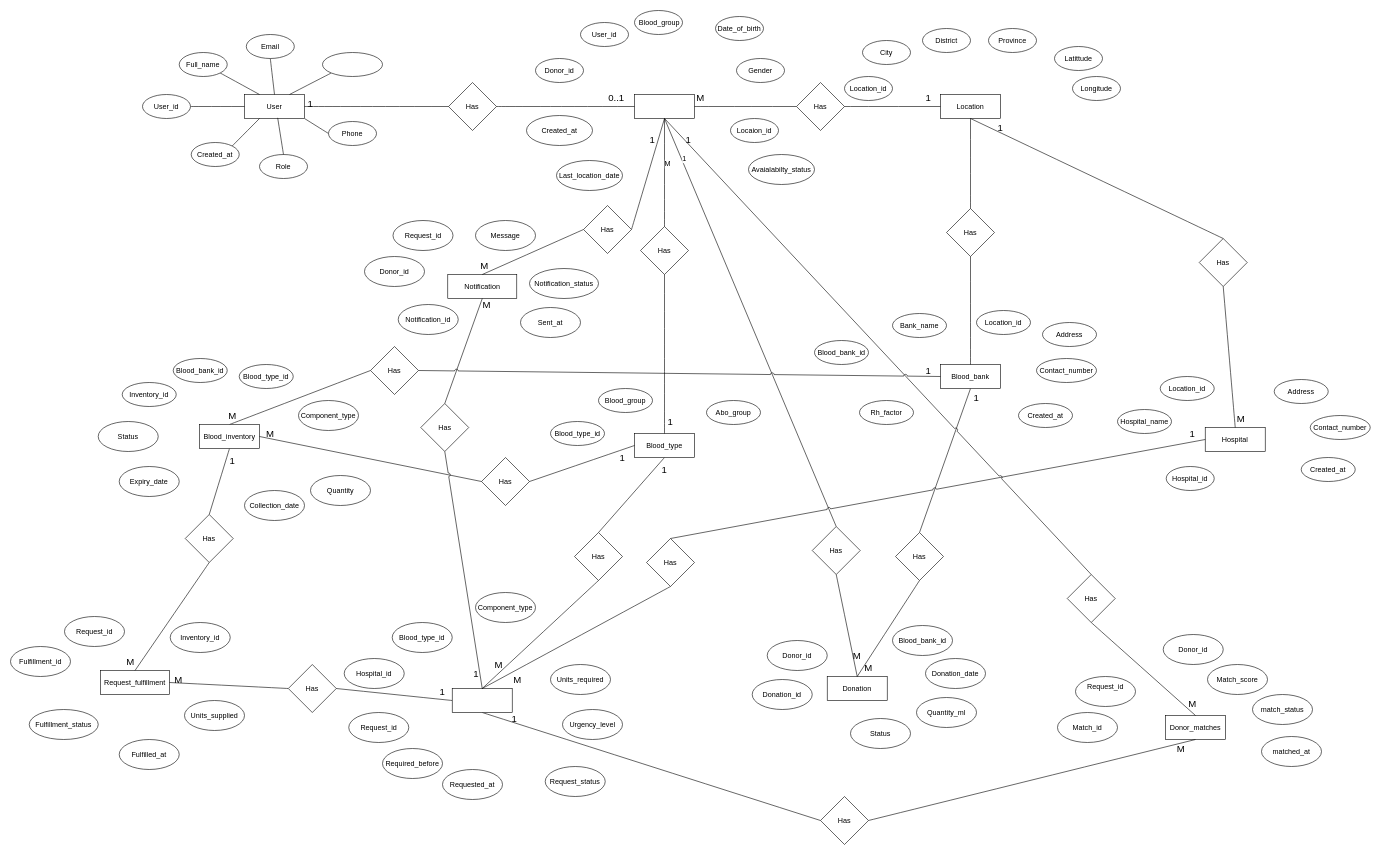
Image size: 1381x855. Some labels were removed from this diagram. The centre of each missing label's shape, as x and y in pixels:
"Blood_request" belongs at (x=482, y=700).
"Donor" belongs at (x=664, y=106).
"Password_hash" belongs at (x=352, y=64).
